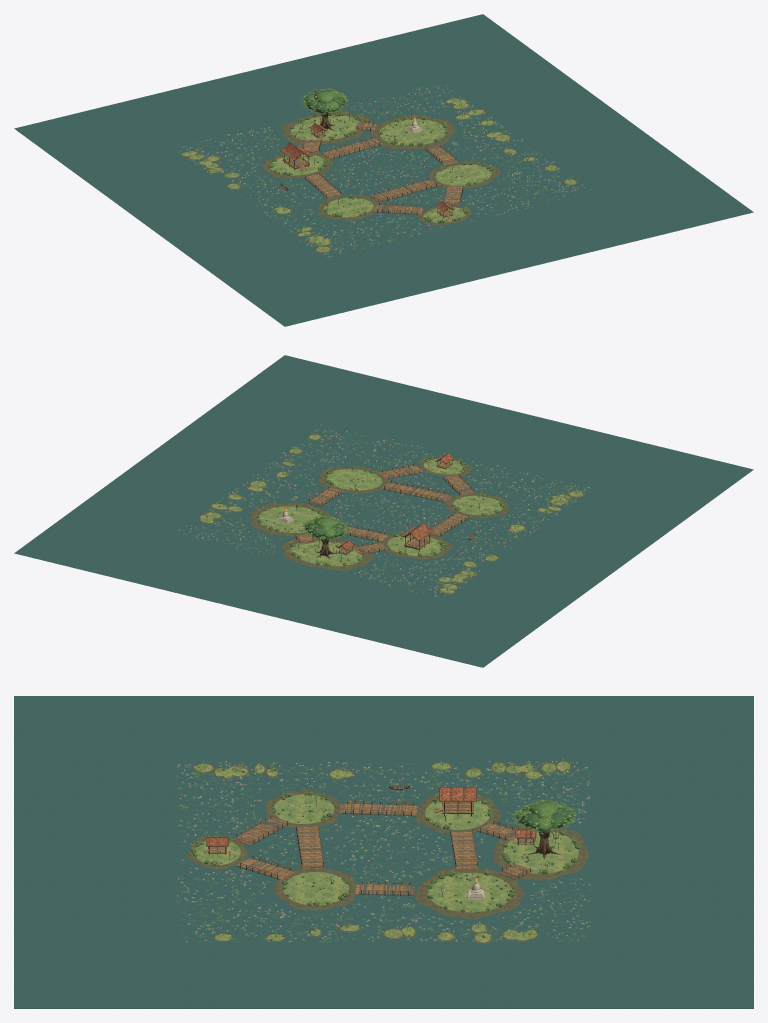
The model's file is lotus-marsh.glb.
The picture shows the model from 3 angles, top to bottom: view 1: azimuth 30°, elevation 25°; view 2: azimuth 150°, elevation 25°; view 3: azimuth 270°, elevation 25°; orthographic projection. The views are drawn at different scales.
Parts seen in each view (by area): view 1: Water surface | water, Island meadow | grass2, Wetland islands - eroded banks | mud, Cupped floating lotus pads | lotus, Bridge / separate deck boards | wood_light, Bridge / separate deck boards | wood_weathered, Bridge / separate deck boards | plank, Bridge / side handrails | wood_light, Organic understory shrubs | leaf, Layered lotus flower petals | pink, Wetland reed stems | reeds; view 2: Water surface | water, Island meadow | grass2, Wetland islands - eroded banks | mud, Cupped floating lotus pads | lotus, Bridge / separate deck boards | wood_light, Bridge / separate deck boards | wood_weathered, Bridge / separate deck boards | plank, Bridge / side handrails | wood_light, Layered lotus flower petals | pink; view 3: Water surface | water, Island meadow | grass2, Wetland islands - eroded banks | mud, Cupped floating lotus pads | lotus, Bridge / separate deck boards | wood_light, Bridge / separate deck boards | wood_weathered, Bridge / separate deck boards | plank, Organic understory shrubs | leaf, Bridge / side handrails | wood_light, Layered lotus flower petals | pink, Wetland reed stems | reeds, Layered lotus flower petals | petalpale (+5 smaller).
Part boxes in pixels (box(x1,y1,x2,y2)): Water surface | water: box(14, 14, 753, 326); Island meadow | grass2: box(182, 98, 576, 251); Wetland islands - eroded banks | mud: box(180, 98, 577, 252); Cupped floating lotus pads | lotus: box(179, 85, 590, 257); Bridge / separate deck boards | wood_light: box(304, 122, 463, 214); Bridge / separate deck boards | wood_weathered: box(304, 122, 462, 213); Bridge / separate deck boards | plank: box(304, 122, 463, 214); Bridge / side handrails | wood_light: box(303, 120, 463, 212); Organic understory shrubs | leaf: box(194, 100, 557, 250); Layered lotus flower petals | pink: box(187, 85, 591, 256); Wetland reed stems | reeds: box(188, 97, 570, 248); Water surface | water: box(14, 355, 753, 667); Island meadow | grass2: box(200, 434, 582, 593); Wetland islands - eroded banks | mud: box(198, 434, 584, 593); Cupped floating lotus pads | lotus: box(179, 426, 590, 597); Bridge / separate deck boards | wood_light: box(295, 466, 474, 554); Bridge / separate deck boards | wood_weathered: box(294, 466, 474, 553); Bridge / separate deck boards | plank: box(294, 466, 472, 554); Bridge / side handrails | wood_light: box(296, 464, 473, 552); Layered lotus flower petals | pink: box(179, 430, 588, 595); Water surface | water: box(14, 696, 753, 1008); Island meadow | grass2: box(195, 762, 578, 942); Wetland islands - eroded banks | mud: box(187, 760, 588, 943); Cupped floating lotus pads | lotus: box(175, 761, 591, 942); Bridge / separate deck boards | wood_light: box(234, 803, 533, 895); Bridge / separate deck boards | wood_weathered: box(237, 803, 532, 895); Bridge / separate deck boards | plank: box(234, 803, 530, 894); Organic understory shrubs | leaf: box(191, 762, 579, 940); Bridge / side handrails | wood_light: box(237, 800, 529, 892); Layered lotus flower petals | pink: box(177, 761, 590, 941); Wetland reed stems | reeds: box(191, 761, 581, 937); Layered lotus flower petals | petalpale: box(177, 761, 589, 941).
Size of the model in its own units: 240 by 18.14 by 240.
Materials: 37 (37 with a texture image).
